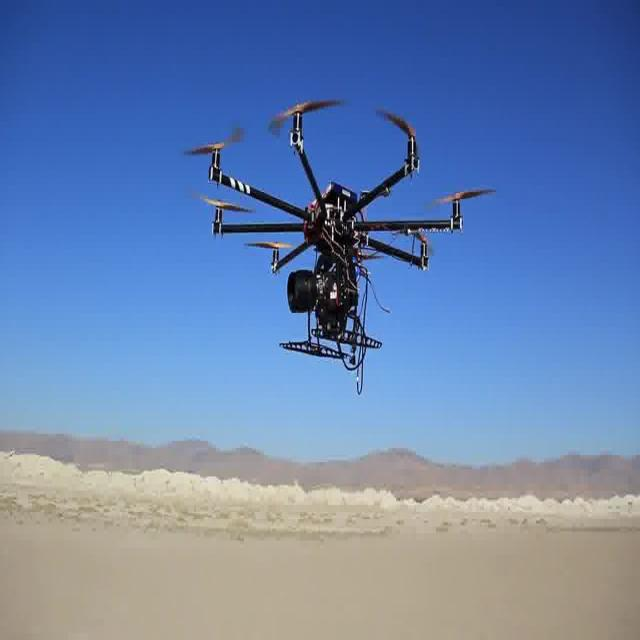Drone_FW: (182, 97, 496, 395)
